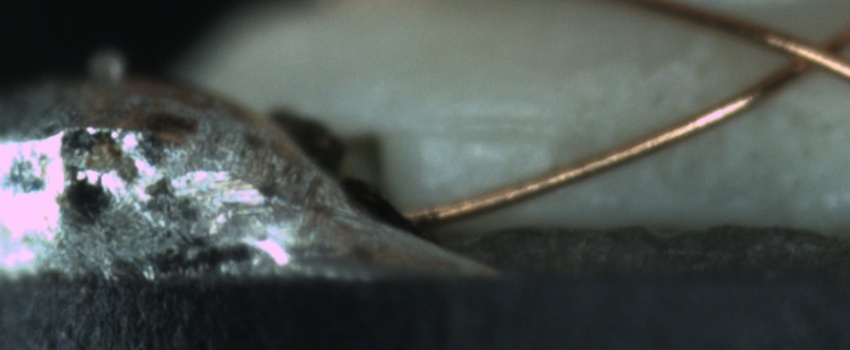CL: (760, 22, 847, 89)
DL: (427, 95, 577, 159)
